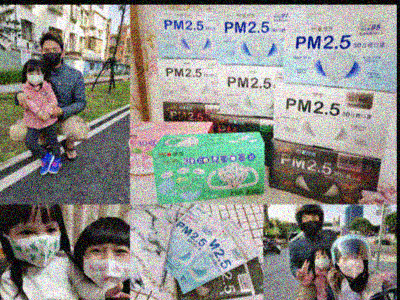with_mask: (7, 221, 61, 267), (80, 243, 130, 289), (336, 255, 365, 279), (41, 45, 61, 67), (300, 214, 321, 234), (25, 70, 43, 86), (313, 253, 329, 270)
